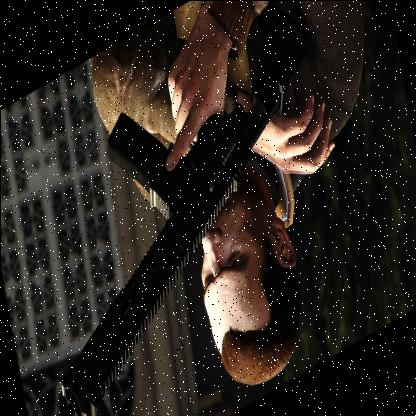rifle: (0, 0, 359, 416)
